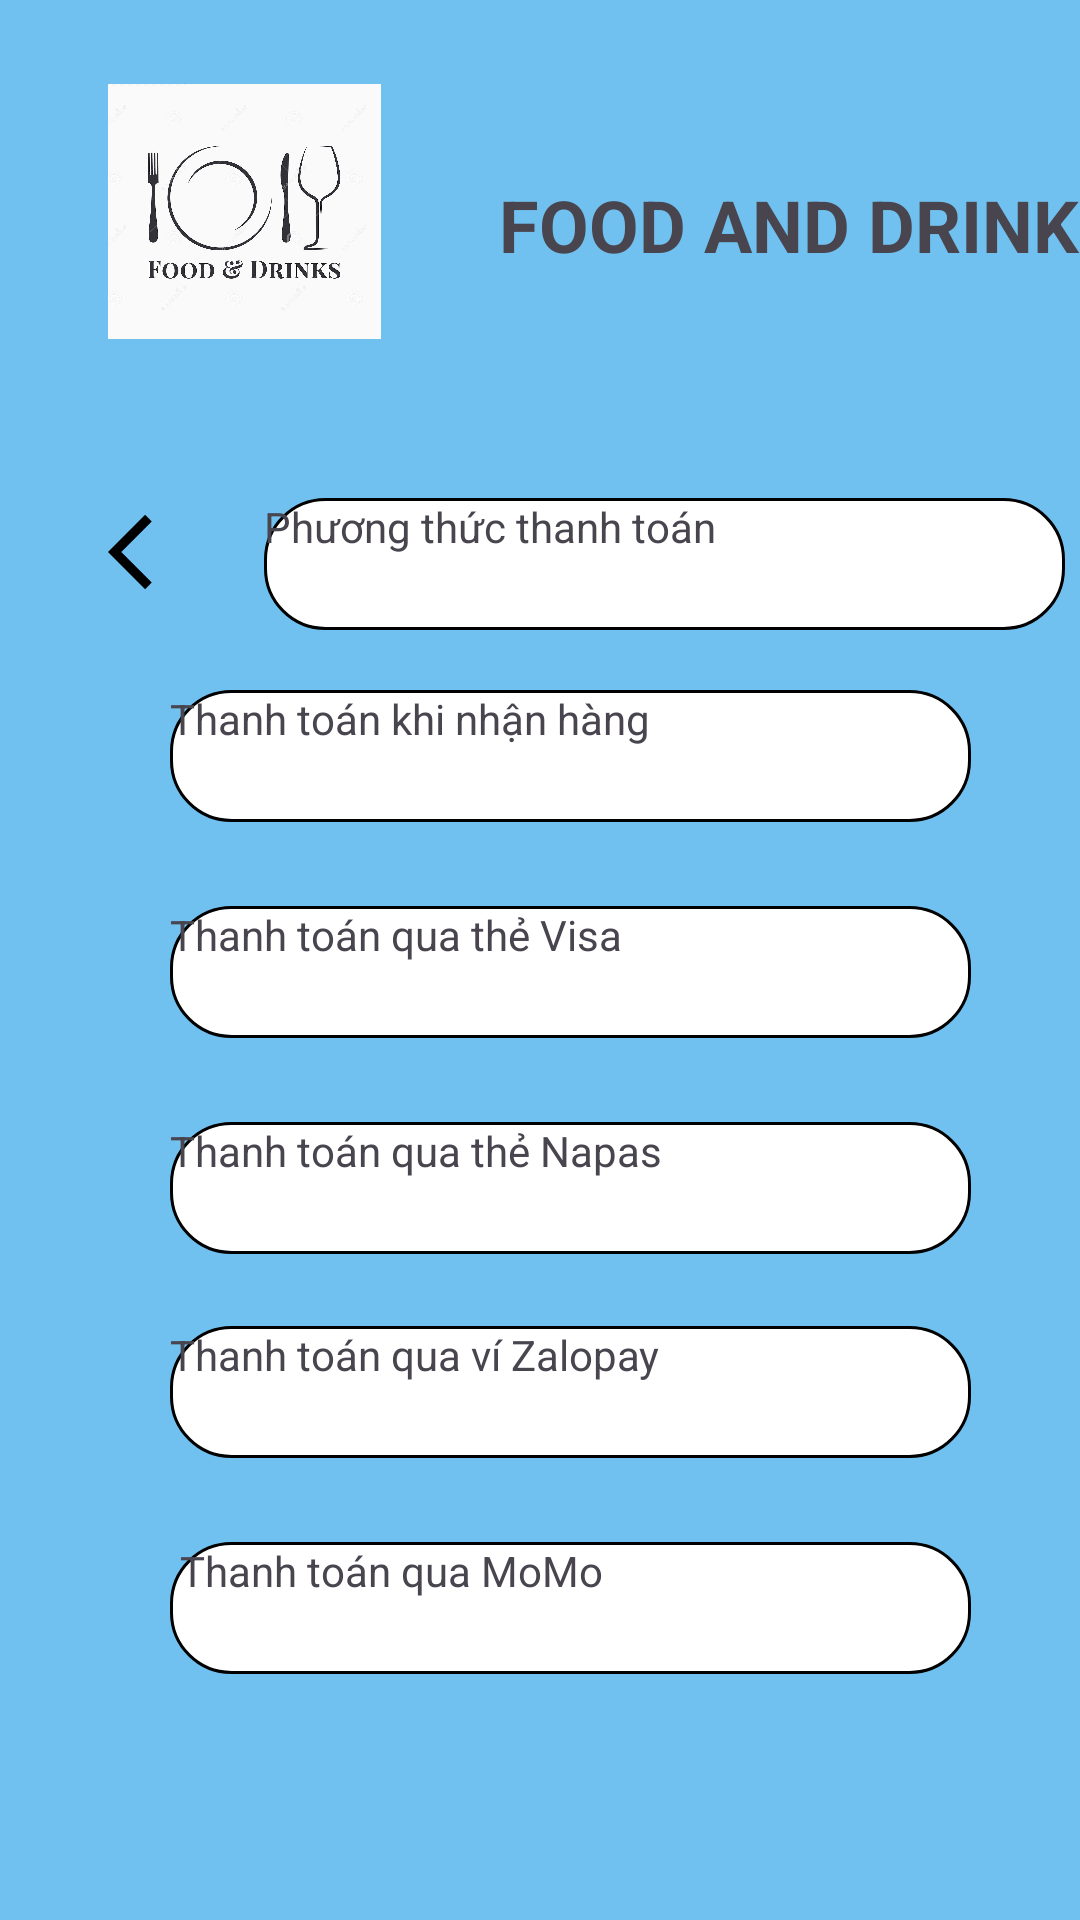

Named icons in this screenshot (1080x1920) and their centers, point (x, y):
arrow left: point (130, 552)
